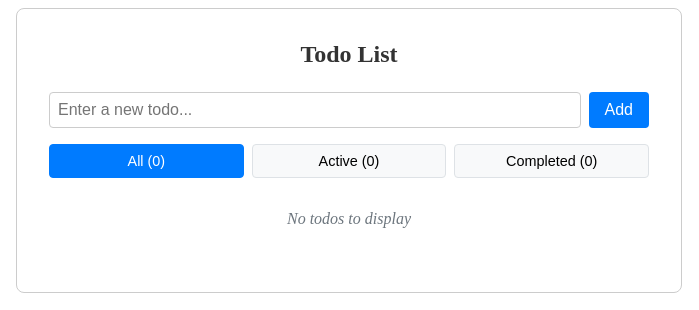
Test: TodoList Component › Adding Todos › should add todo when pressing Enter
In the field with test id "todo-input": (315, 110) left=49, top=92, right=580, bottom=128, type "Buy groceries"
Then press Enter
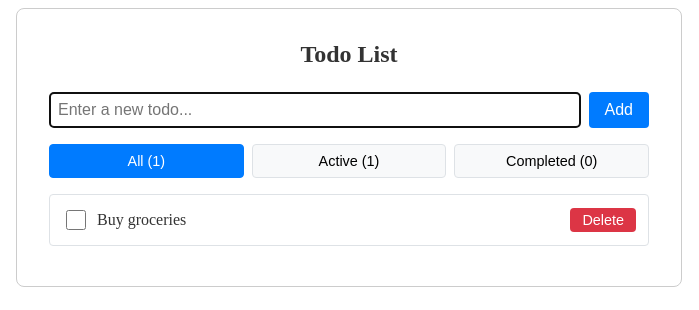
Result: the text "Buy groceries" is shown at left=97, top=211, right=186, bottom=228
